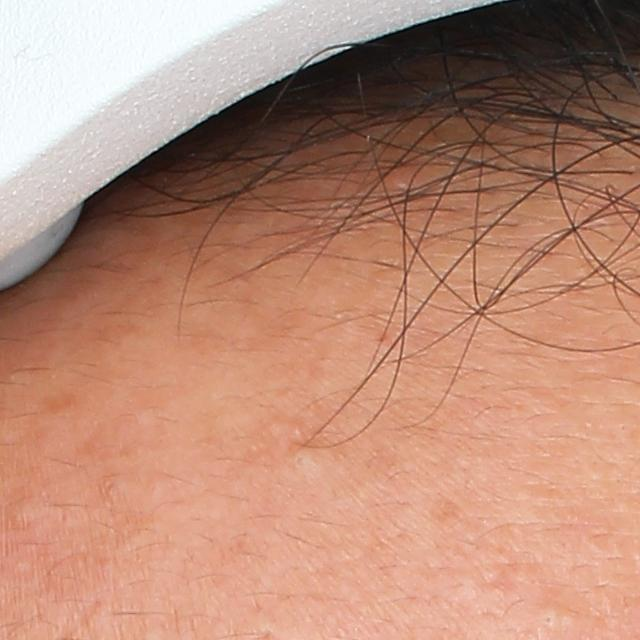comedo: (538, 607, 557, 628)
